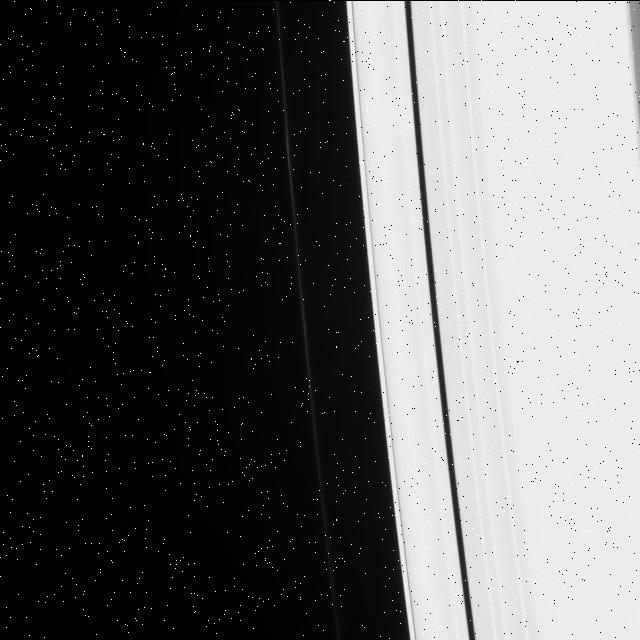Saturn: (268, 0, 640, 640)
